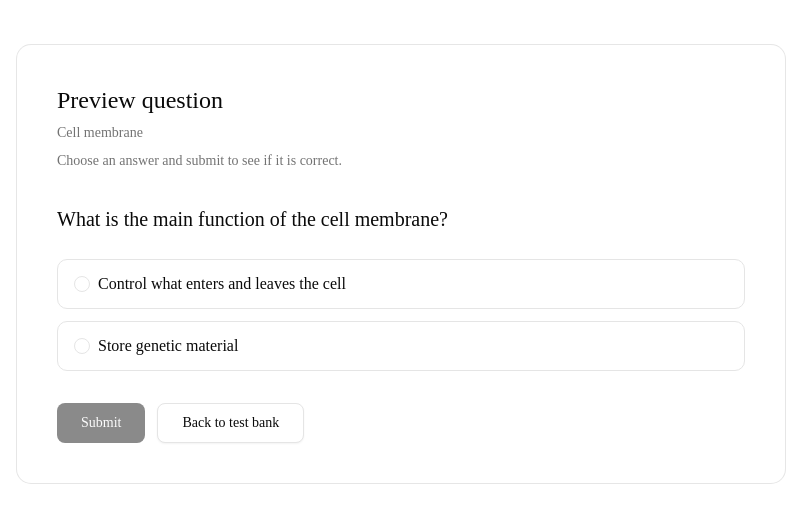
Test: preview question page › shows the correct message after a right answer
Click the radio button named "control what enters and leaves the cell" next to "Control what enters and leaves the cell" at {"x": 82, "y": 284}, box top-left (74, 276), bottom-right (90, 292)
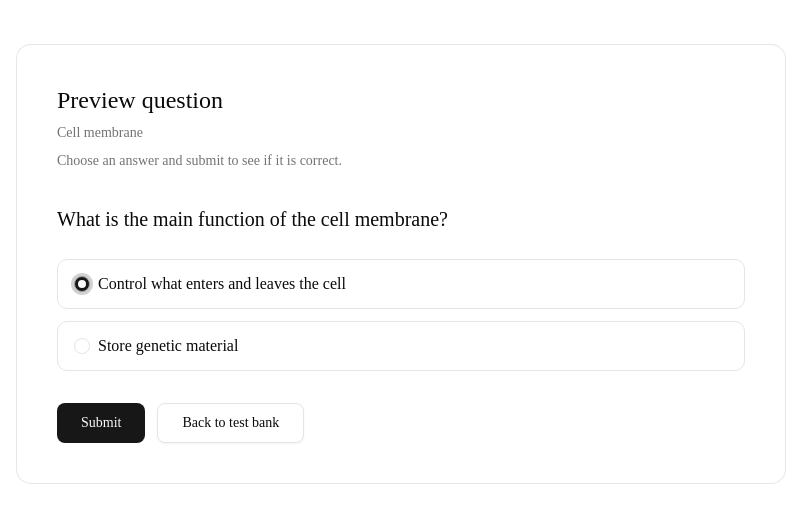
Click the button "Submit" at {"x": 101, "y": 423}, box top-left (57, 403), bottom-right (146, 443)
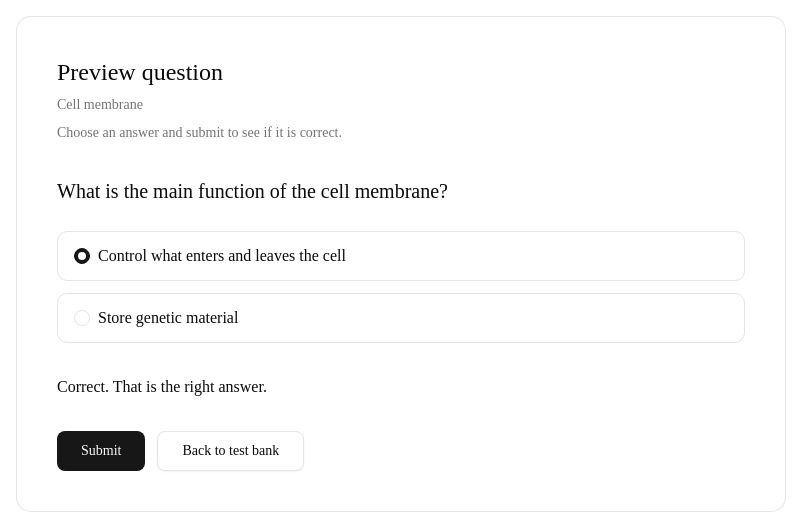
Result: the text "Correct. That is the right answer." is shown at top-left (57, 378), bottom-right (267, 395)
